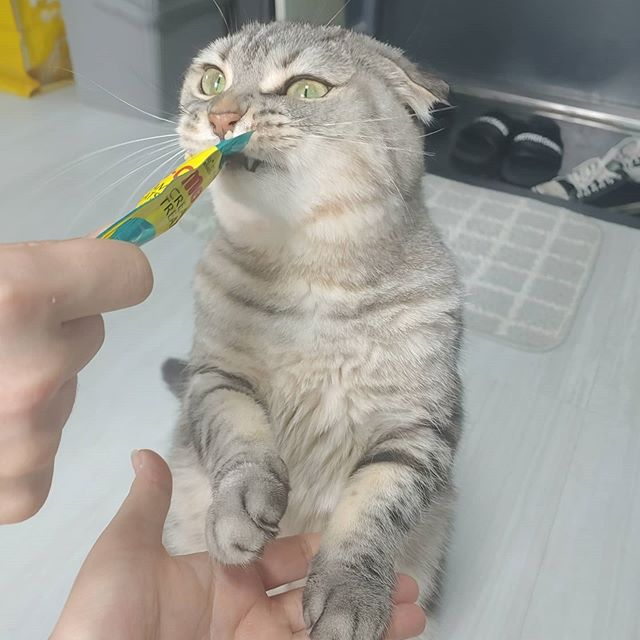cat: (182, 8, 427, 253)
